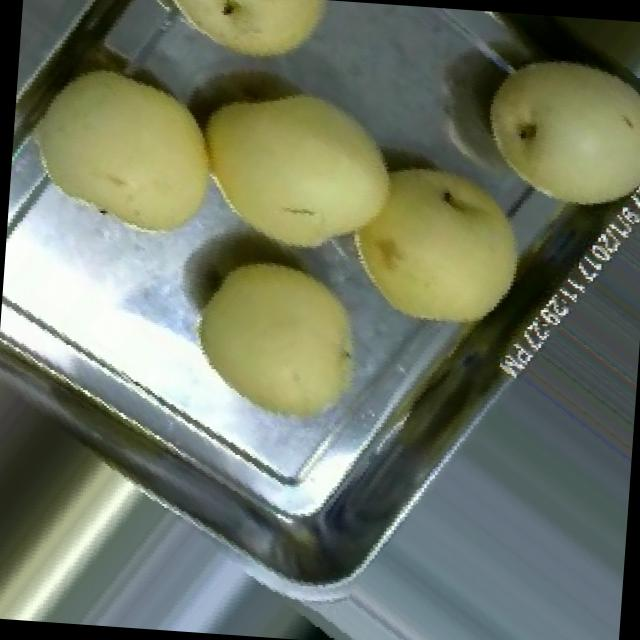Fruit: (4, 36, 242, 266), (165, 57, 412, 276), (328, 129, 546, 357), (168, 238, 380, 442), (463, 38, 640, 232), (115, 0, 357, 89)
